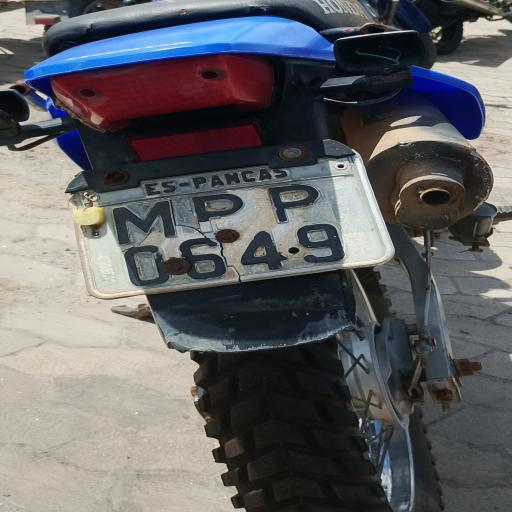Caractere: (110, 199, 178, 246), (266, 182, 322, 224), (191, 192, 245, 235), (179, 237, 229, 281), (238, 230, 288, 273), (296, 223, 347, 265), (122, 246, 170, 287)
Placa: (64, 146, 400, 300)
